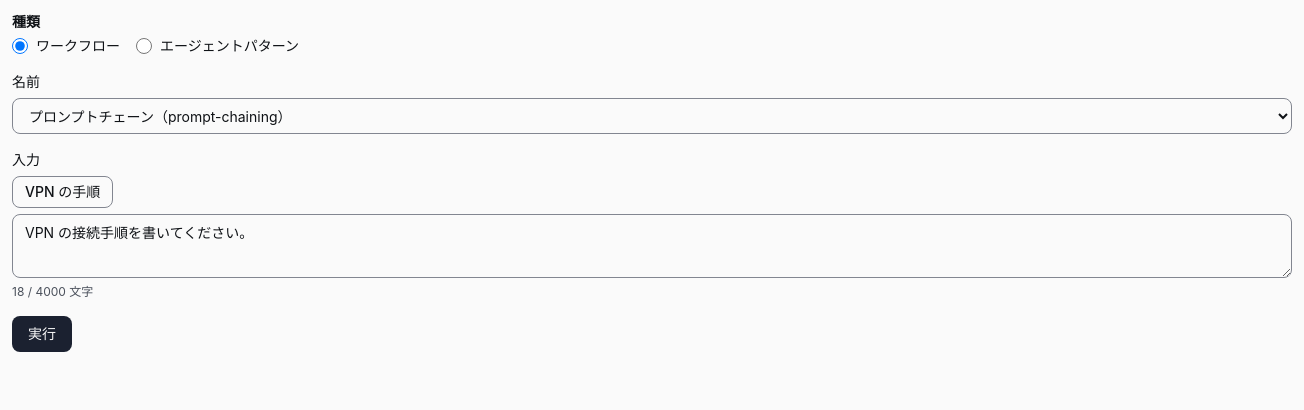
Test: WorkflowPanel run › locks the selection while a run is in flight
Click the button "実行": coordinates (42, 334) [12,316,72,352]
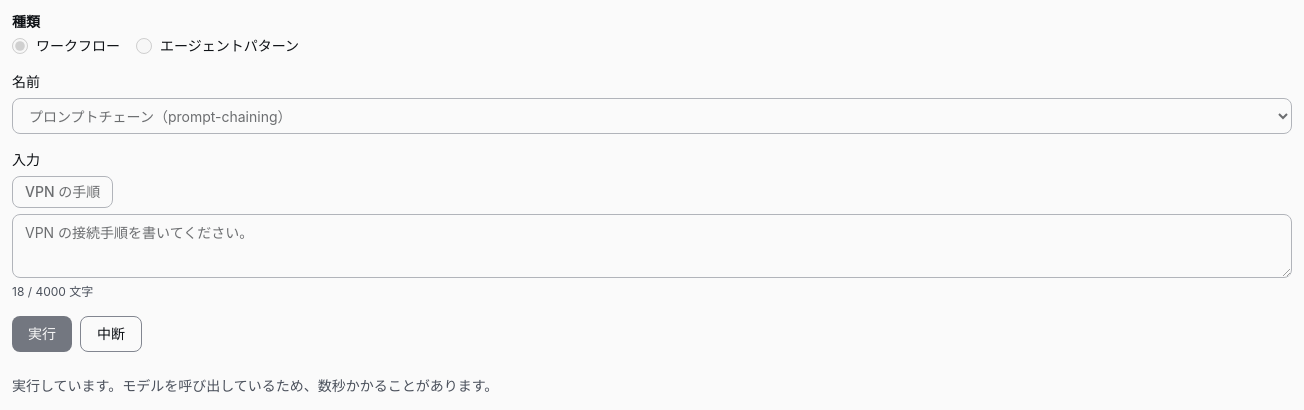
expect the dropdown labelled "名前" is disabled: met, box [12,98,1292,134]
expect the text box labelled "入力" is disabled: met, box [12,214,1292,278]
